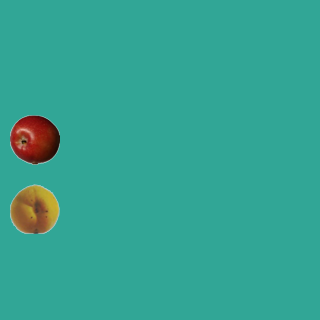Apple Braeburn: (9, 114, 59, 164)
Peach 2: (9, 183, 59, 233)
